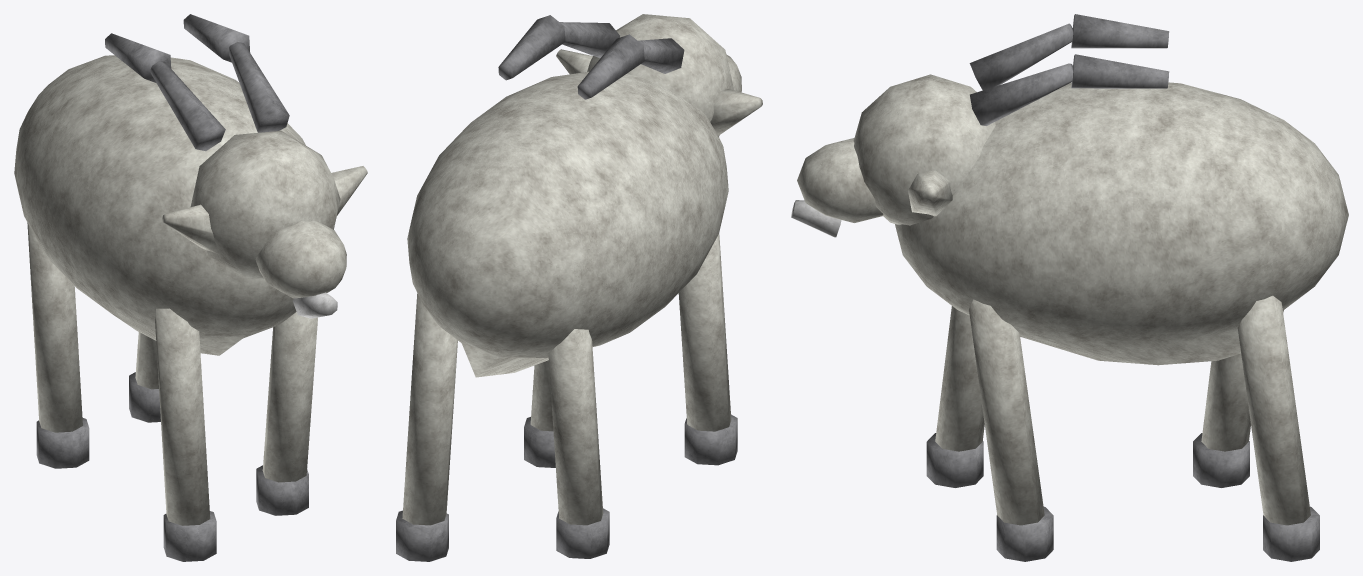
The model's file is mob_kambing_walk4.obj.
3 views of the same model, side by side, from view 1: azimuth 30°, elevation 25°; view 2: azimuth 150°, elevation 25°; view 3: azimuth 270°, elevation 25° (orthographic). The views are drawn at different scales.
Parts seen in each view (by area): view 1: mob_kambing; view 2: mob_kambing; view 3: mob_kambing.
Boxes of the visible parts, <box> form: mob_kambing: <box>14,14,367,561</box>; mob_kambing: <box>396,14,762,561</box>; mob_kambing: <box>791,14,1348,561</box>.
Bounding box in the file's own units: 0.5506 × 1.03 × 1.08.
1 material, 1 textured.
